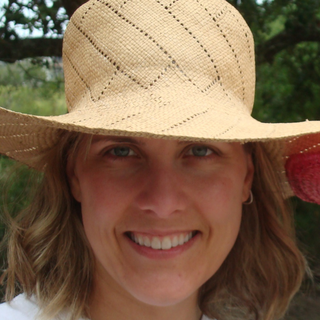eye: (94, 141, 145, 166), (176, 138, 222, 165)
